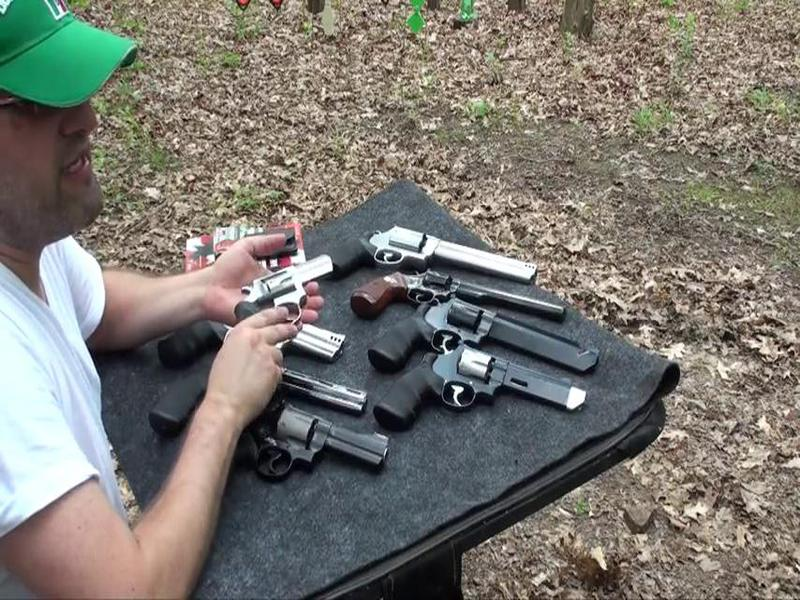Revolver: (227, 242, 349, 340)
